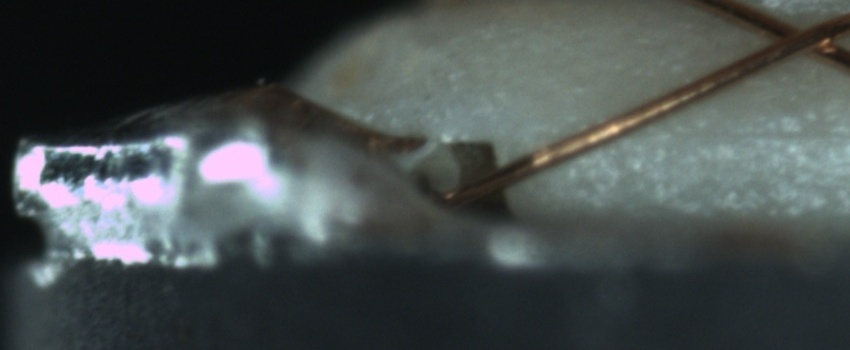CL: (748, 5, 845, 66)
DL: (630, 96, 850, 166)
